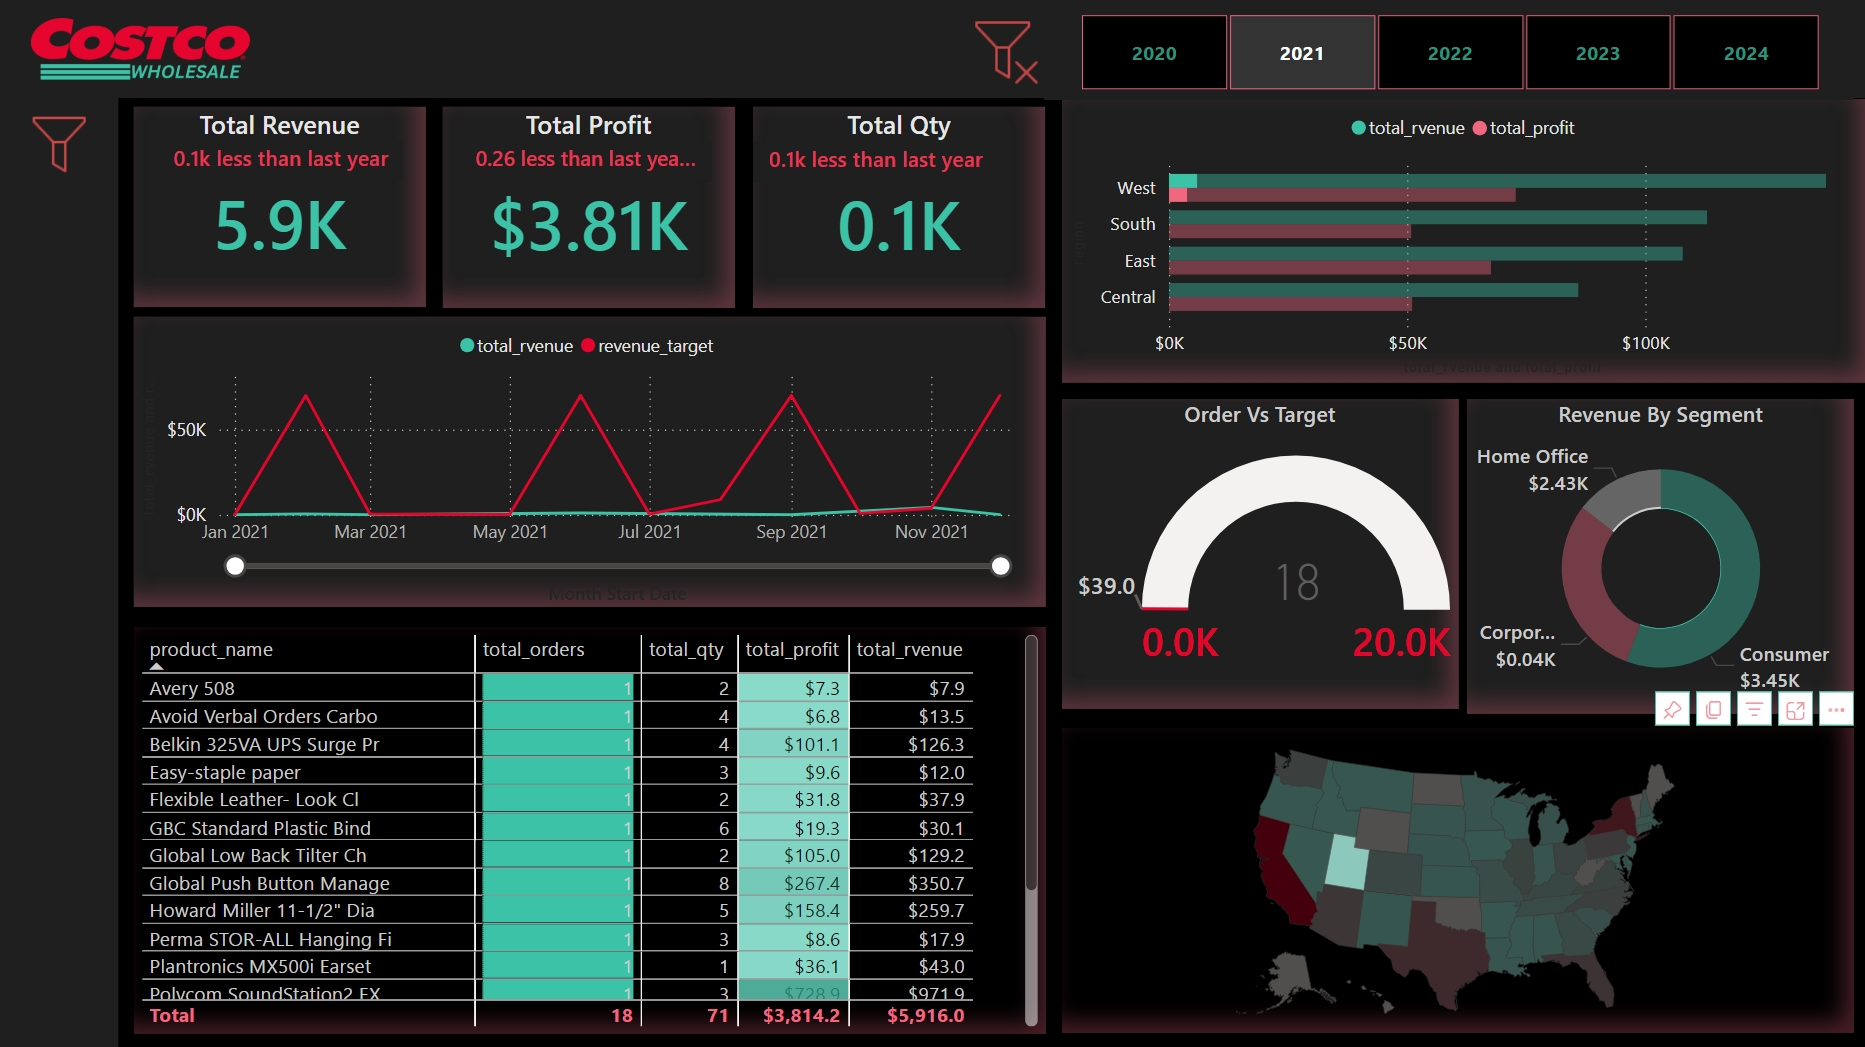

Layout of this report page (visuals, bound fields, positions):
{"tool":"powerbi","page":{"name":"Page 1","canvas":[1280,720],"ordinal":0},"visuals":[{"type":"shape","box":[0,0,1280.1,67.2],"z":0},{"type":"shape","box":[0,67.2,81.1,653.3],"z":1000},{"type":"image","box":[13.6,0,165,72.7],"z":2000},{"type":"card","title":"Total Revenue","fields":{"Values":["mesures_table.total_rvenue"]},"box":[90.9,72.7,200,137.1],"z":3000},{"type":"card","title":"Total Qty","fields":{"Values":["mesures_table.total_qty"]},"box":[514.8,72.7,199.9,137.8],"z":4000},{"type":"card","title":"Total Profit","fields":{"Values":["mesures_table.total_profit"]},"box":[302.9,72.7,199.9,137.8],"z":5000},{"type":"clusteredBarChart","fields":{"Category":["customers.region"],"Y":["mesures_table.total_rvenue","mesures_table.total_profit"]},"box":[726.8,68.1,552.7,193.8],"z":6000},{"type":"lineChart","fields":{"Category":["date_table.Month Start Date"],"Y":["mesures_table.total_rvenue","mesures_table.revenue_target"]},"box":[90.9,216.5,623.9,198.4],"z":7000},{"type":"gauge","title":"Order Vs Target","fields":{"Y":["mesures_table.total_orders"],"TargetValue":["mesures_table.target_orders"]},"box":[726.8,272.6,271,212],"z":8000},{"type":"donutChart","title":"Revenue By Segment","fields":{"Y":["mesures_table.total_rvenue"],"Category":["customers.Segment"]},"box":[1003.9,272.6,265,215],"z":9000},{"type":"tableEx","fields":{"Values":["products.product_name","mesures_table.total_orders","mesures_table.total_qty","mesures_table.total_profit","mesures_table.total_rvenue"]},"box":[90.9,428.5,623.9,278.6],"z":10000},{"type":"shapeMap","fields":{"Category":["customers.state"],"Value":["mesures_table.total_rvenue"]},"box":[726.8,498.2,542.1,209],"z":11000},{"type":"slicer","fields":{"Values":["date_table.Year"]},"box":[714.7,3,554.2,65.1],"z":12000},{"type":"image","title":"Clear Filter Button","box":[661.7,9.1,53,53],"z":13000},{"type":"image","title":"Open filter Pane Button","box":[7,72.7,67.2,51.8],"z":14000},{"type":"card","fields":{"Values":["mesures_table.kpi Qty YOY"]},"box":[107.5,96.9,168.1,27.3],"z":24000},{"type":"card","fields":{"Values":["mesures_table.KPI profit YOY"]},"box":[319,96.5,167.9,28],"z":25000},{"type":"card","fields":{"Values":["mesures_table.kpi Qty YOY"]},"box":[514.8,96.9,168.1,28.8],"z":26000}]}

Visuals, with their boxes in screenshot pixels (x1, y1, x2, y2), scaled from the page's 1280x720 canvas onto the 1865x1047 screenshot:
shape: 0/0/1864/98
shape: 0/98/118/1046
image: 20/0/260/106
"Total Revenue" card: 132/106/424/305
"Total Qty" card: 750/106/1041/306
"Total Profit" card: 441/106/733/306
clusteredBarChart - customers.region x mesures_table.total_rvenue: 1059/99/1864/381
lineChart - date_table.Month Start Date x mesures_table.total_rvenue: 132/315/1041/603
"Order Vs Target" gauge: 1059/396/1454/705
"Revenue By Segment" donutChart: 1463/396/1849/709
tableEx - products.product_name x mesures_table.total_orders: 132/623/1041/1028
shapeMap - customers.state x mesures_table.total_rvenue: 1059/724/1849/1028
slicer - date_table.Year: 1041/4/1849/99
"Clear Filter Button" image: 964/13/1041/90
"Open filter Pane Button" image: 10/106/108/181
card - mesures_table.kpi Qty YOY: 157/141/402/181
card - mesures_table.KPI profit YOY: 465/140/709/181
card - mesures_table.kpi Qty YOY: 750/141/995/183
